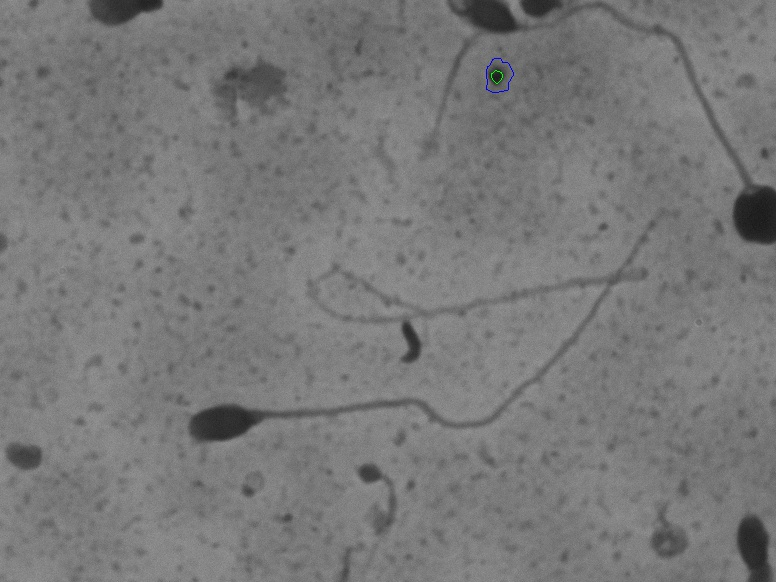Abnormal: (146, 318, 558, 494)
